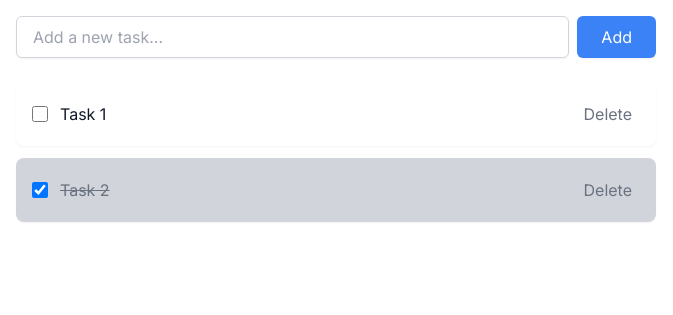
Test: TaskList › adds new task
Type "New Task" into the field with placeholder "Add a new task..." at coordinates (293, 37), box [16,16,569,58]
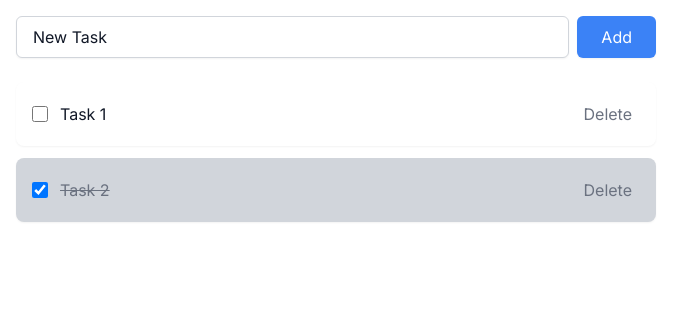
Submit the form with placeholder "Add a new task...", box [16,16,656,58]
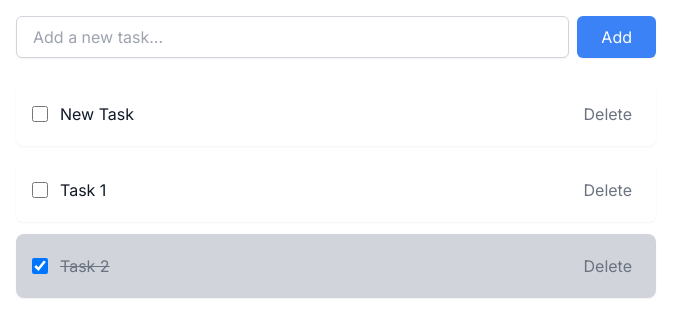
Check: the button "New Task" is shown, box [60,102,576,126]
